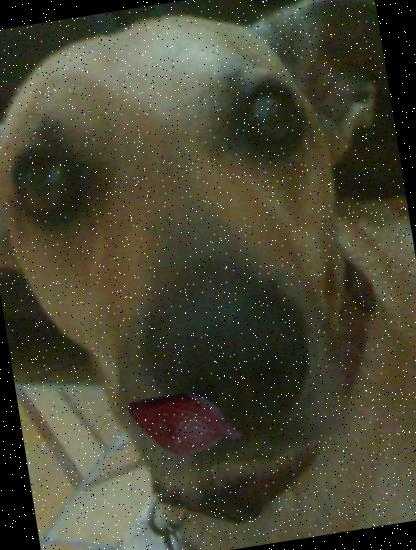Salak: (116, 356, 252, 492)
